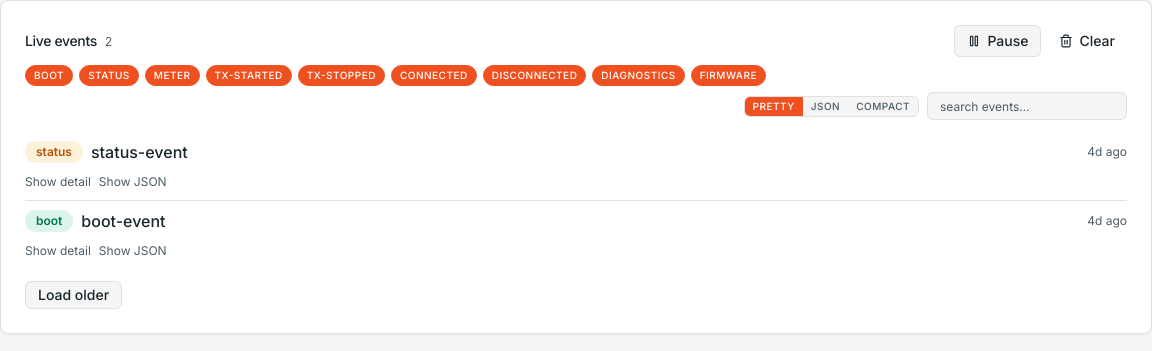
Test: DeviceEventsPanel — kind filter + search › kind chip toggles visibility of that kind
expect the text "boot-event" is shown: met, box [81,209,166,233]
expect the text "status-event" is shown: met, box [91,140,188,164]
Turn off `boot` chip → boot row hidden.
Click the button with test id "device-events-kind-boot". click: [49, 76]
box: [25,65,73,86]
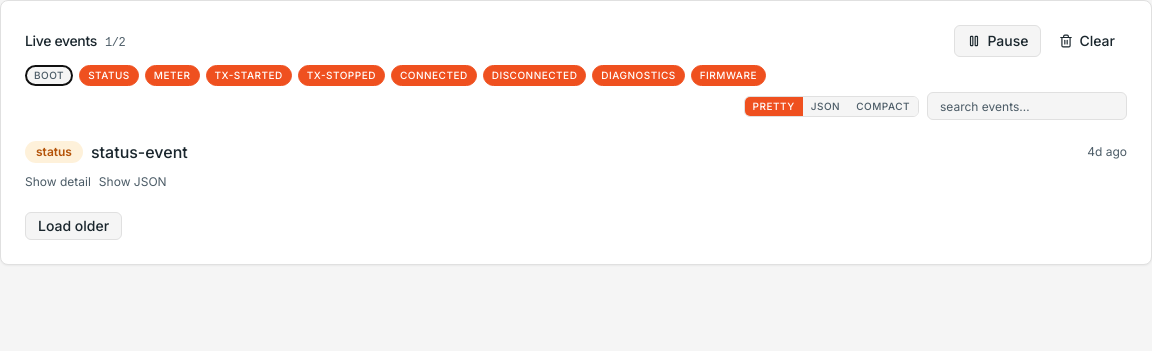
expect the text "status-event" is shown: met, box [91,140,188,164]
expect the text "boot-event" is gone: met
